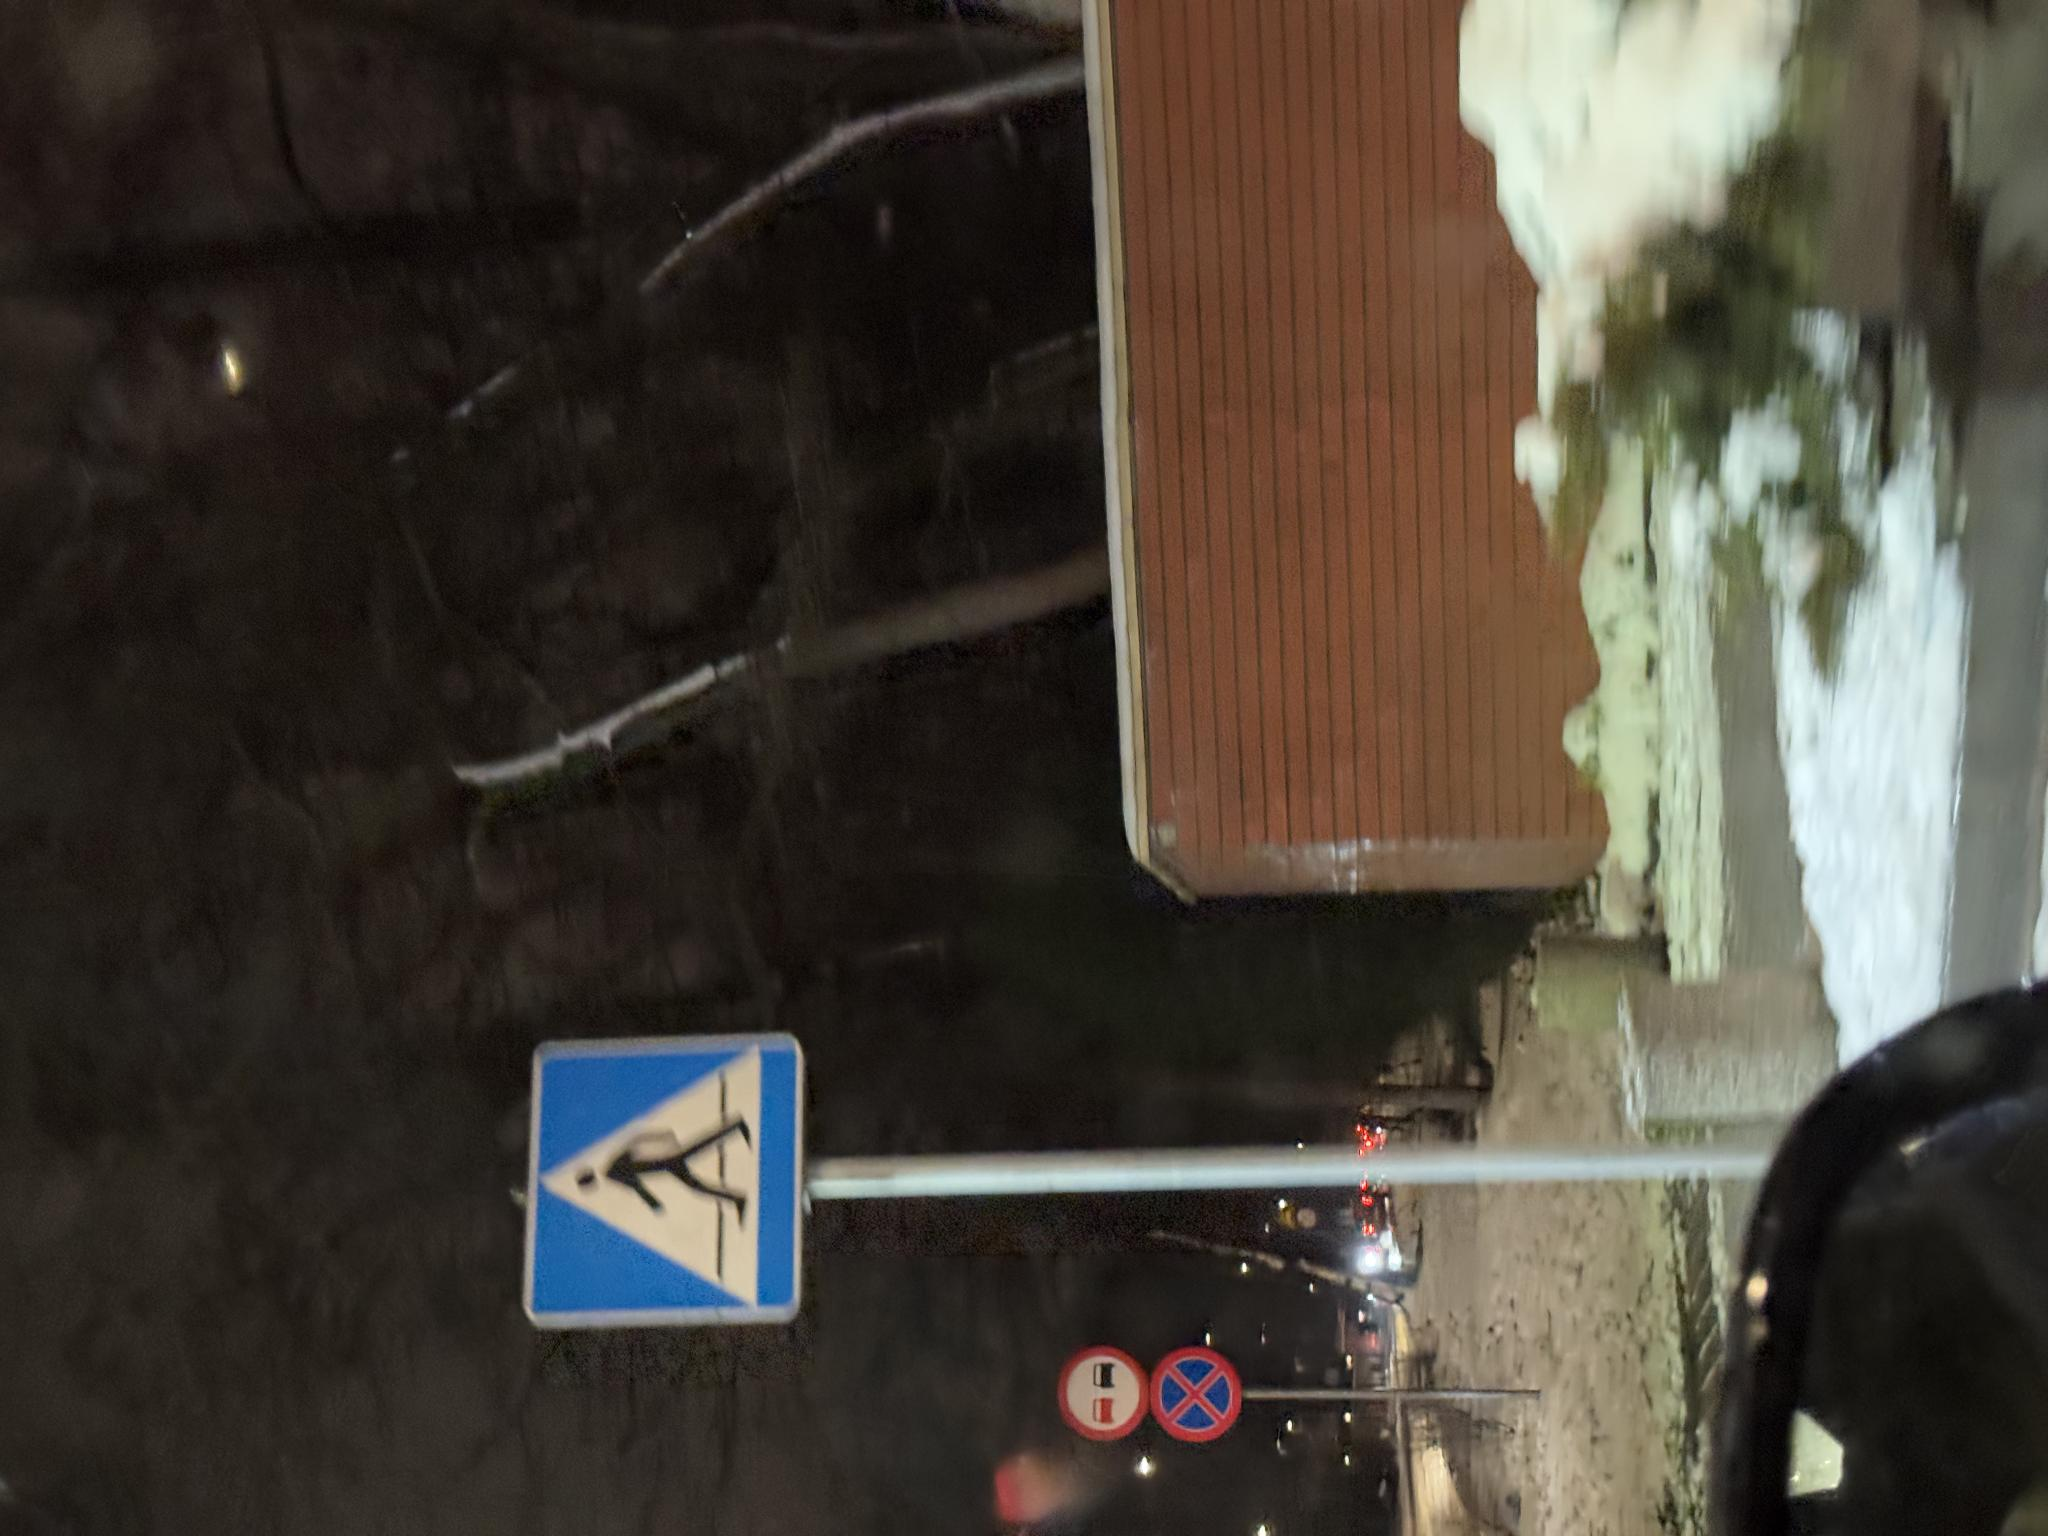information: (208, 518, 505, 807)
prohibitory: (92, 1149, 190, 1244), (94, 1055, 192, 1150)
